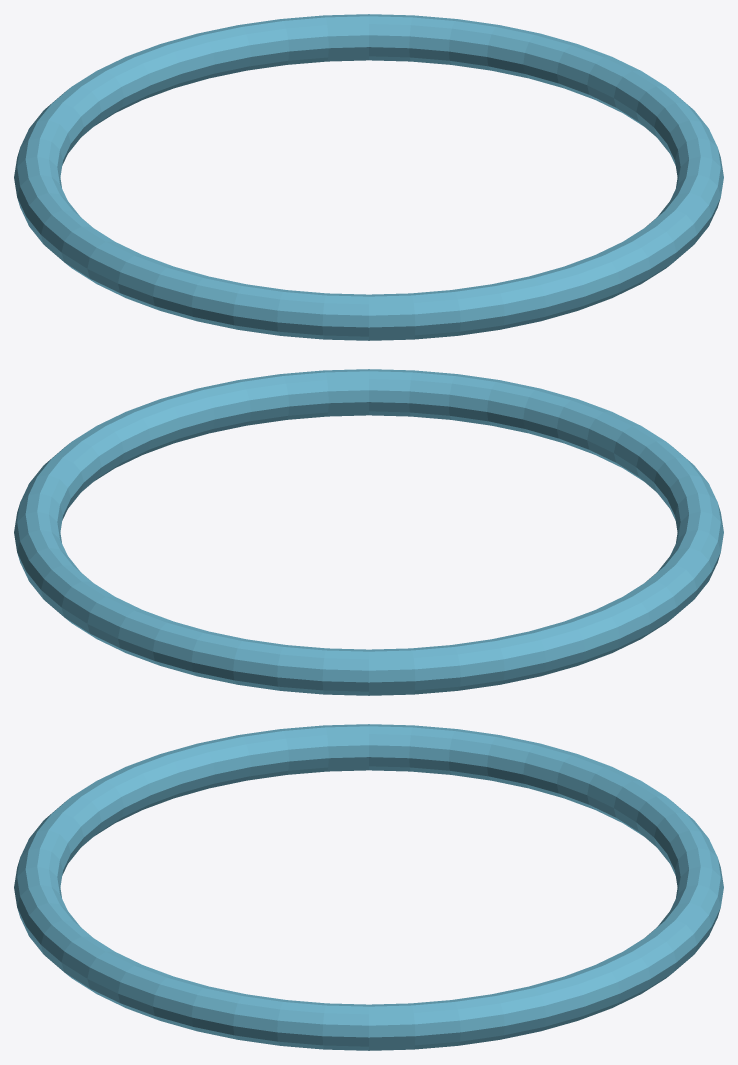
3 views of the same model, one above another, from view 1: azimuth 30°, elevation 25°; view 2: azimuth 150°, elevation 25°; view 3: azimuth 270°, elevation 25° (orthographic).
Parts seen in each view (by area): view 1: Torus; view 2: Torus; view 3: Torus.
Part boxes in pixels (x1,y1,x2,y2): Torus: (14,14,723,340); Torus: (14,369,723,695); Torus: (14,724,723,1050).
Size of the model in its own units: 214 by 14 by 214.
